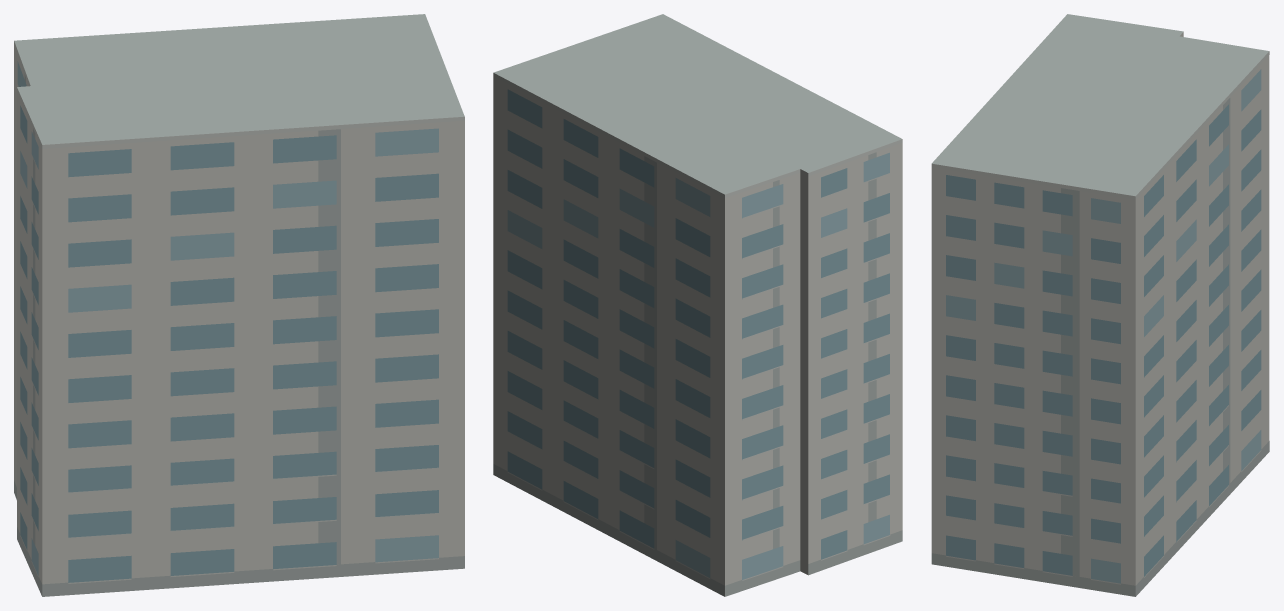
The model's file is survey-upis-33038135.glb.
3 renders of one model, left to right at view 1: azimuth 30°, elevation 25°; view 2: azimuth 150°, elevation 25°; view 3: azimuth 270°, elevation 25°, orthographic. The views are drawn at different scales.
Visible parts, largest first — view 1: survey-upis-33038135.tmp; view 2: survey-upis-33038135.tmp; view 3: survey-upis-33038135.tmp.
Part boxes in pixels (left/top/right/bottom): survey-upis-33038135.tmp: left=14, top=14, right=464, bottom=596; survey-upis-33038135.tmp: left=493, top=14, right=902, bottom=596; survey-upis-33038135.tmp: left=931, top=14, right=1269, bottom=596.
Bounding box in the file's own units: 25.77 × 26.4 × 20.19.
